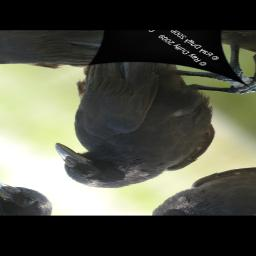Crow: (0, 31, 256, 204)
